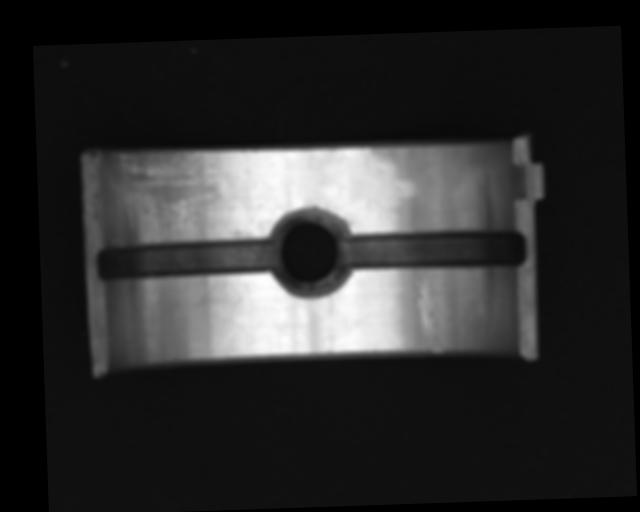gap: (342, 226, 527, 277), (94, 237, 273, 282)
hole: (268, 207, 354, 296)
nick: (414, 275, 444, 354)
scratch: (107, 145, 236, 243)
